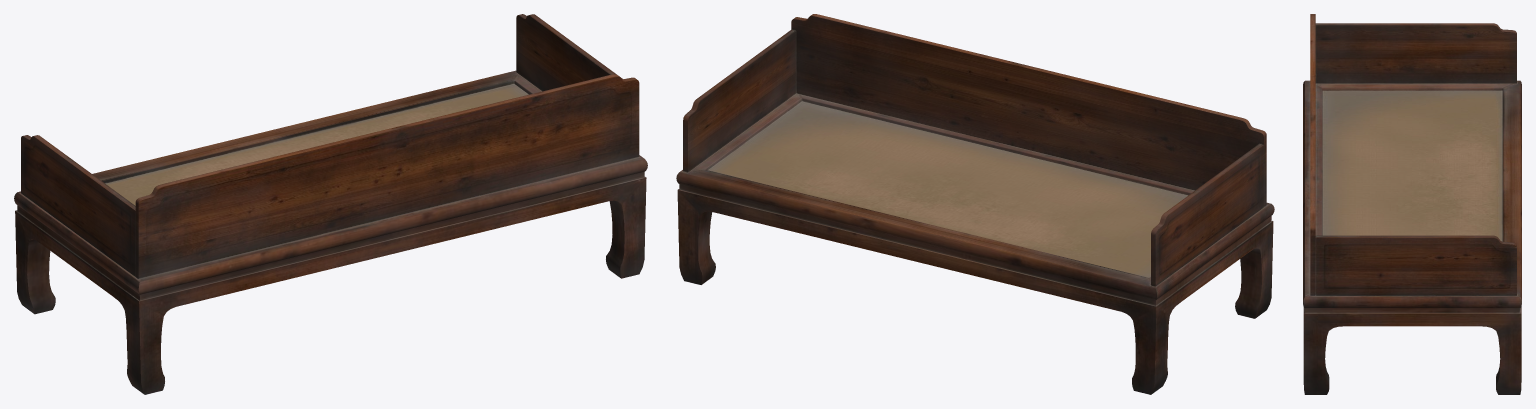
Rendered from chinese_sofa.glb.
The picture shows the model from 3 angles, left to right: view 1: azimuth 30°, elevation 25°; view 2: azimuth 150°, elevation 25°; view 3: azimuth 270°, elevation 25°; orthographic projection. The views are drawn at different scales.
Visible parts, largest first — view 1: chinese_sofa; view 2: chinese_sofa; view 3: chinese_sofa.
Boxes of the visible parts, box(x1,y1,x2,y2) form: chinese_sofa: box(14, 14, 647, 394); chinese_sofa: box(676, 14, 1274, 394); chinese_sofa: box(1303, 14, 1521, 394).
Bounding box in the file's own units: 2.29 × 0.86 × 0.9689.
1 material, 1 textured.
